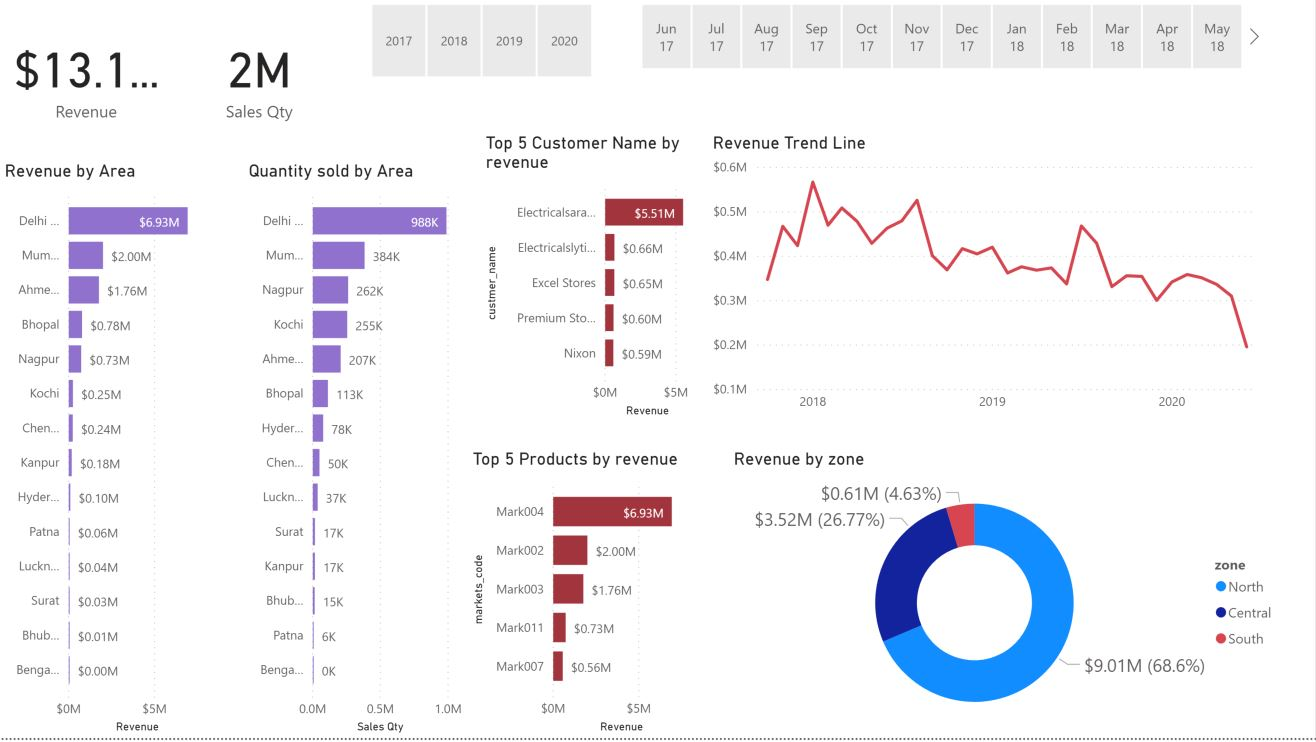

Layout of this report page (visuals, bound fields, positions):
{"tool":"powerbi","page":{"name":"Page 1","canvas":[1280,720],"ordinal":0},"visuals":[{"type":"card","fields":{"Values":["Base measures.Revenue"]},"box":[0,0,168.3,150.8],"z":0},{"type":"card","fields":{"Values":["Base measures.Sales Qty"]},"box":[168.3,0,168.3,150.8],"z":1000},{"type":"barChart","title":"Revenue by Customer","fields":{"Y":["Base measures.Revenue"],"Category":["sales customers.custmer_name"]},"box":[0,158.5,217.9,561.2],"z":2000},{"type":"barChart","title":"Revenue by Area","fields":{"Y":["Base measures.Revenue"],"Category":["sales markets.markets_name"]},"box":[0,158.5,217.9,561.2],"z":3000},{"type":"barChart","title":"Quantity sold by Area","fields":{"Category":["sales markets.markets_name"],"Y":["Base measures.Sales Qty"]},"box":[237.3,158.5,217.9,561.2],"z":4000},{"type":"slicer","fields":{"Values":["sales date.year"]},"box":[336.5,0,262.6,83.6],"z":5000},{"type":"slicer","fields":{"Values":["sales date.cy_date"]},"box":[599.1,0,632.2,75.9],"z":5001},{"type":"barChart","title":"Top 5 Customer Name by revenue","fields":{"Y":["Base measures.Revenue"],"Category":["sales customers.custmer_name"]},"box":[467.8,131.3,220.8,281.1],"z":5002},{"type":"barChart","title":"Top 5 Products by revenue","fields":{"Y":["Base measures.Revenue"],"Category":["sales markets.markets_code"]},"box":[455.2,438.7,233.4,281.1],"z":5003},{"type":"lineChart","title":"Revenue Trend Line","fields":{"Category":["sales date.cy_date"],"Y":["Base measures.Revenue"]},"box":[689,131,542,281],"z":5004},{"type":"donutChart","fields":{"Category":["sales markets.zone"],"Y":["Base measures.Revenue"]},"box":[709.1,438.7,542.7,281.1],"z":5005}]}

Visuals, with their boxes in screenshot pixels (x1, y1, x2, y2), scaled from the page's 1280x720 canvas onto the 1316x742 screenshot:
card - Base measures.Revenue: crop(0, 0, 173, 155)
card - Base measures.Sales Qty: crop(173, 0, 346, 155)
"Revenue by Customer" barChart: crop(0, 163, 224, 741)
"Revenue by Area" barChart: crop(0, 163, 224, 741)
"Quantity sold by Area" barChart: crop(244, 163, 468, 741)
slicer - sales date.year: crop(346, 0, 616, 86)
slicer - sales date.cy_date: crop(616, 0, 1266, 78)
"Top 5 Customer Name by revenue" barChart: crop(481, 135, 708, 425)
"Top 5 Products by revenue" barChart: crop(468, 452, 708, 741)
"Revenue Trend Line" lineChart: crop(708, 135, 1266, 425)
donutChart - sales markets.zone x Base measures.Revenue: crop(729, 452, 1287, 741)
